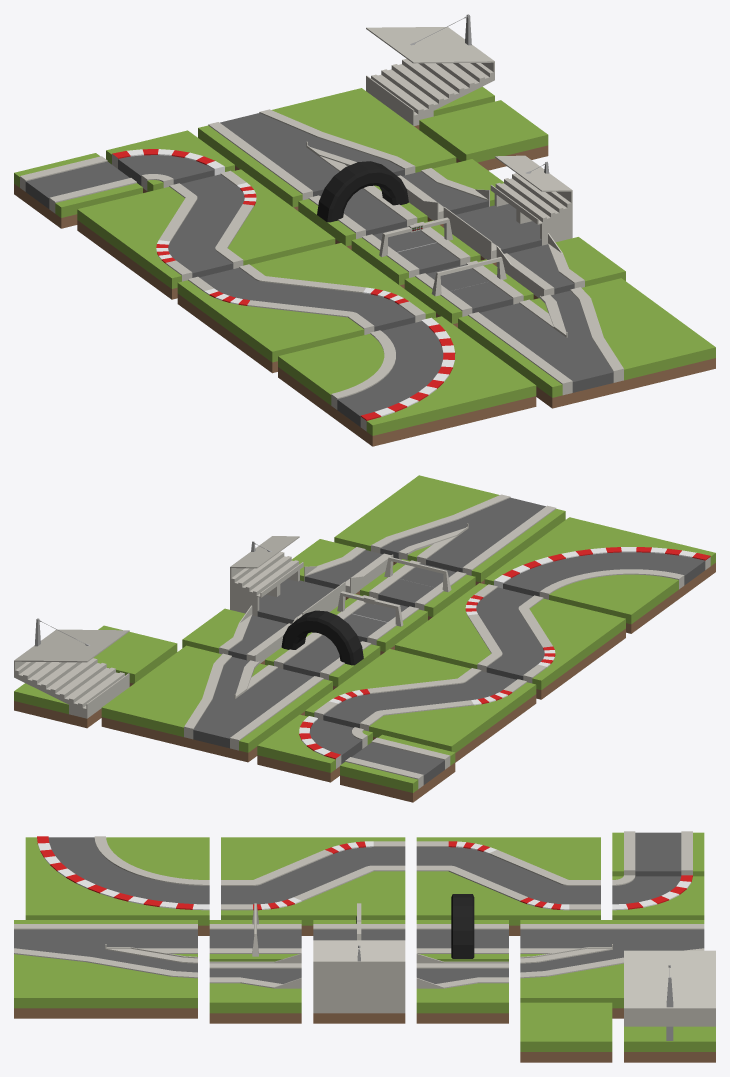
The model's file is gridmap.dae.
3 renders of one model, top to bottom at view 1: azimuth 30°, elevation 25°; view 2: azimuth 150°, elevation 25°; view 3: azimuth 270°, elevation 25°, orthographic. The views are drawn at different scales.
Visible parts, largest first — view 1: track-corner-large-col, track-pit-entry-large-col, track-left-right-large-col, track-right-left-large-col, track-pit-exit-large-col, building-tribune-col, building-pitlane-col, track-tire-col, terrain-grass-col, track-straight-small-col, track-checkpoint-col, track-start-finish-col (+3 smaller); view 2: track-pit-exit-large-col, track-right-left-large-col, track-corner-large-col, track-left-right-large-col, track-pit-entry-large-col, building-tribune-col, building-pitlane-col, track-straight-small-col, track-tire-col, track-corner-small-col, track-checkpoint-col, track-pit-exitlane-small-col (+3 smaller); view 3: track-pit-entry-large-col, track-corner-large-col, track-right-left-large-col, track-left-right-large-col, track-pit-exit-large-col, building-tribune-col, building-pitlane-col, track-pit-exitlane-small-col, track-pit-entrylane-small-col, terrain-grass-col, track-tire-col, track-straight-small-col (+3 smaller).
Part boxes in pixels (box(x1,y1,x2,y2)): track-corner-large-col: box(278, 316, 536, 446); track-pit-entry-large-col: box(458, 278, 715, 408); track-left-right-large-col: box(77, 169, 335, 299); track-right-left-large-col: box(177, 243, 435, 373); track-pit-exit-large-col: box(198, 88, 456, 210); building-tribune-col: box(366, 14, 494, 129); building-pitlane-col: box(443, 155, 572, 266); track-tire-col: box(298, 161, 427, 249); terrain-grass-col: box(419, 100, 548, 170); track-straight-small-col: box(14, 153, 142, 228); track-checkpoint-col: box(404, 257, 533, 327); track-start-finish-col: box(351, 217, 480, 288); track-pit-exit-large-col: box(101, 645, 332, 762); track-right-left-large-col: box(395, 583, 625, 699); track-corner-large-col: box(484, 517, 715, 633); track-left-right-large-col: box(305, 649, 536, 762); track-pit-entry-large-col: box(334, 475, 565, 585); building-tribune-col: box(14, 618, 129, 728); building-pitlane-col: box(230, 536, 345, 623); track-straight-small-col: box(340, 734, 455, 802); track-tire-col: box(265, 610, 380, 689); track-corner-small-col: box(257, 714, 372, 782); track-checkpoint-col: box(360, 557, 475, 620); track-pit-exitlane-small-col: box(182, 605, 297, 664); track-pit-entry-large-col: box(14, 920, 197, 1018); track-corner-large-col: box(25, 836, 209, 935); track-right-left-large-col: box(221, 837, 405, 935); track-left-right-large-col: box(416, 837, 600, 935); track-pit-exit-large-col: box(520, 920, 704, 1018); building-tribune-col: box(624, 950, 715, 1062); building-pitlane-col: box(313, 940, 405, 1023); track-pit-exitlane-small-col: box(416, 953, 508, 1023); track-pit-entrylane-small-col: box(209, 953, 301, 1023); terrain-grass-col: box(520, 1002, 612, 1062); track-tire-col: box(416, 894, 508, 961); track-straight-small-col: box(612, 831, 704, 876).
Size of the model in its own units: 43 by 61 by 8.
Materials: 1 (1 with a texture image).
